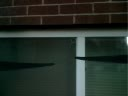window: (11, 35, 70, 96), (76, 57, 100, 67), (81, 90, 107, 96)
